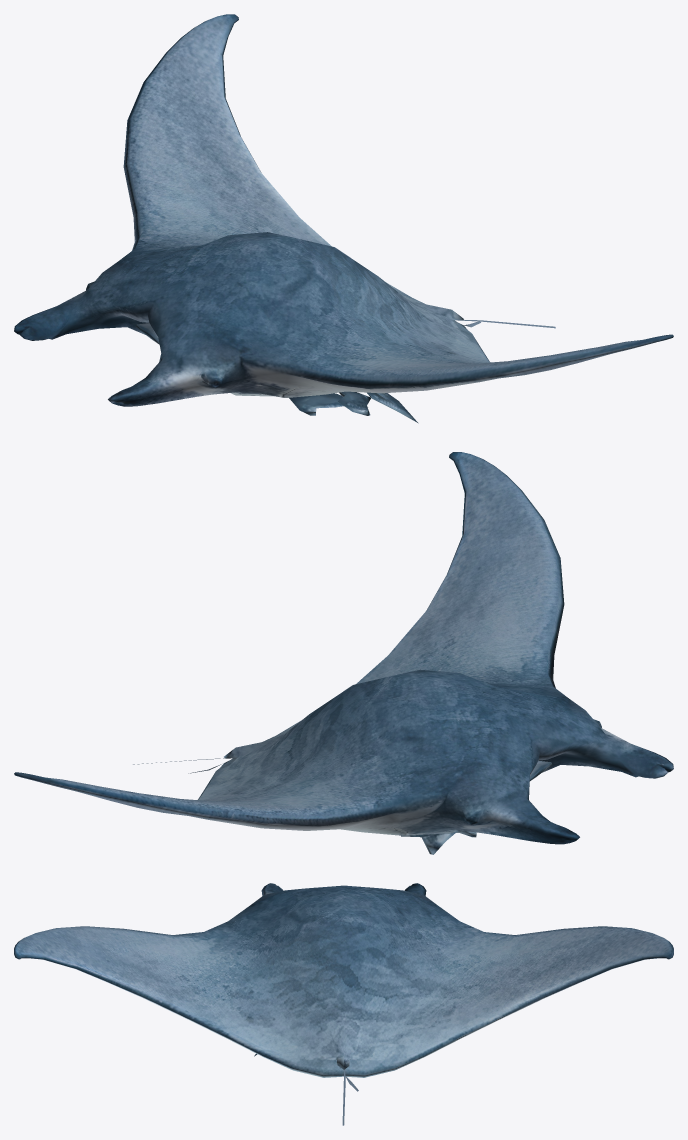
Rendered from manta.glb.
3 renders of one model, top to bottom at view 1: azimuth 30°, elevation 25°; view 2: azimuth 150°, elevation 25°; view 3: azimuth 270°, elevation 25°, orthographic. The views are drawn at different scales.
Visible parts, largest first — view 1: tripo_node_c3afd94b-df7e-464b-893d-48a3f83d9605; view 2: tripo_node_c3afd94b-df7e-464b-893d-48a3f83d9605; view 3: tripo_node_c3afd94b-df7e-464b-893d-48a3f83d9605.
Boxes of the visible parts, bbox=[...] form: tripo_node_c3afd94b-df7e-464b-893d-48a3f83d9605: bbox=[14, 14, 673, 423]; tripo_node_c3afd94b-df7e-464b-893d-48a3f83d9605: bbox=[14, 452, 673, 854]; tripo_node_c3afd94b-df7e-464b-893d-48a3f83d9605: bbox=[14, 883, 673, 1125].
Bounding box in the file's own units: 0.647 × 0.2319 × 0.9995.
1 material, 1 textured.
